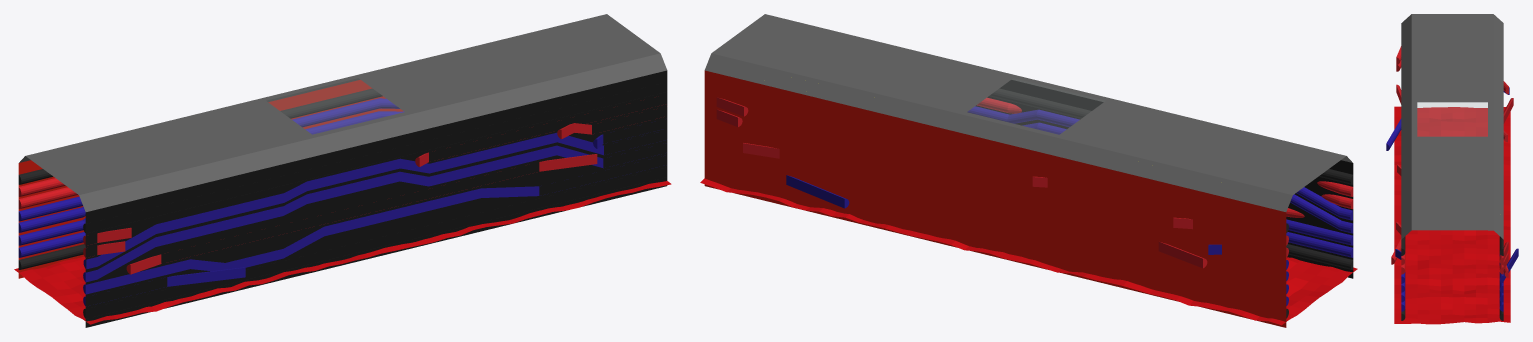
File: tunel.fbx
3 renders of one model, left to right at view 1: azimuth 30°, elevation 25°; view 2: azimuth 150°, elevation 25°; view 3: azimuth 270°, elevation 25°, orthographic. The views are drawn at different scales.
Visible parts, largest first — view 1: wallRight, ceil, tube.000, tube.002, floor, ceil.001, wallLeft; view 2: wallLeft, ceil, tube.000, floor, ceil.001, wallRight, tube.002; view 3: ceil, floor, ceil.001, tube.000, tube.002.
Part boxes in pixels (bbox=[...]): wallRight: bbox=[85, 70, 667, 327]; ceil: bbox=[19, 14, 666, 211]; tube.000: bbox=[83, 123, 603, 318]; tube.002: bbox=[18, 88, 404, 269]; floor: bbox=[14, 181, 671, 324]; ceil.001: bbox=[267, 78, 403, 134]; wallLeft: bbox=[18, 80, 403, 278]; wallLeft: bbox=[704, 70, 1286, 327]; ceil: bbox=[705, 14, 1352, 211]; tube.000: bbox=[967, 88, 1353, 269]; floor: bbox=[700, 178, 1357, 325]; ceil.001: bbox=[968, 78, 1104, 134]; wallRight: bbox=[975, 80, 1353, 278]; tube.002: bbox=[716, 97, 1288, 318]; ceil: bbox=[1401, 14, 1503, 239]; floor: bbox=[1394, 106, 1510, 324]; ceil.001: bbox=[1417, 102, 1487, 136]; tube.000: bbox=[1386, 46, 1405, 320]; tube.002: bbox=[1499, 81, 1518, 320].
Bounding box in the file's own units: 1000 × 210 × 259.
